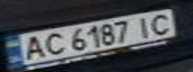1: (84, 23, 103, 48)
6: (66, 26, 87, 52)
7: (112, 18, 136, 43)
8: (97, 20, 118, 46)
A: (15, 34, 51, 62)
C: (36, 29, 69, 57), (145, 11, 178, 36)
I: (130, 14, 160, 38)
